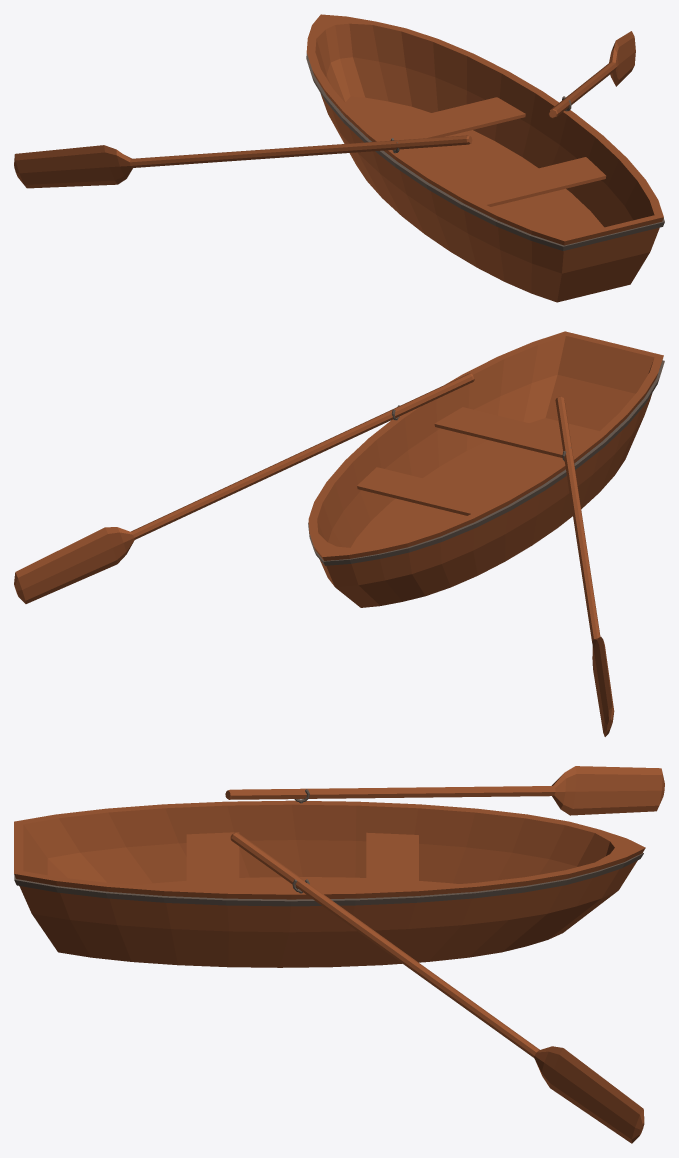
Rendered from rowing_boat.glb.
3 renders of one model, top to bottom at view 1: azimuth 30°, elevation 25°; view 2: azimuth 150°, elevation 25°; view 3: azimuth 270°, elevation 25°, orthographic. The views are drawn at different scales.
Parts seen in each view (by area): view 1: Circle, LeftPaddle, Cube, Cube.001, RightPaddle; view 2: Circle, RightPaddle, LeftPaddle, Cube, Cube.001; view 3: Circle, RightPaddle, LeftPaddle, Cube, Cube.001.
Boxes of the visible parts, left/top/right/bottom form: Circle: left=306, top=14, right=664, bottom=302; LeftPaddle: left=14, top=135, right=472, bottom=188; Cube: left=456, top=157, right=606, bottom=206; Cube.001: left=371, top=97, right=525, bottom=140; RightPaddle: left=548, top=31, right=635, bottom=118; Circle: left=308, top=331, right=664, bottom=607; RightPaddle: left=14, top=373, right=474, bottom=603; LeftPaddle: left=555, top=396, right=614, bottom=736; Cube: left=434, top=407, right=590, bottom=457; Cube.001: left=357, top=467, right=502, bottom=515; Circle: left=14, top=800, right=645, bottom=967; RightPaddle: left=230, top=832, right=644, bottom=1143; LeftPaddle: left=225, top=766, right=664, bottom=815; Cube: left=186, top=832, right=239, bottom=889; Cube.001: left=366, top=832, right=418, bottom=889.
Bounding box in the file's own units: 6.83 × 1.72 × 5.86.
